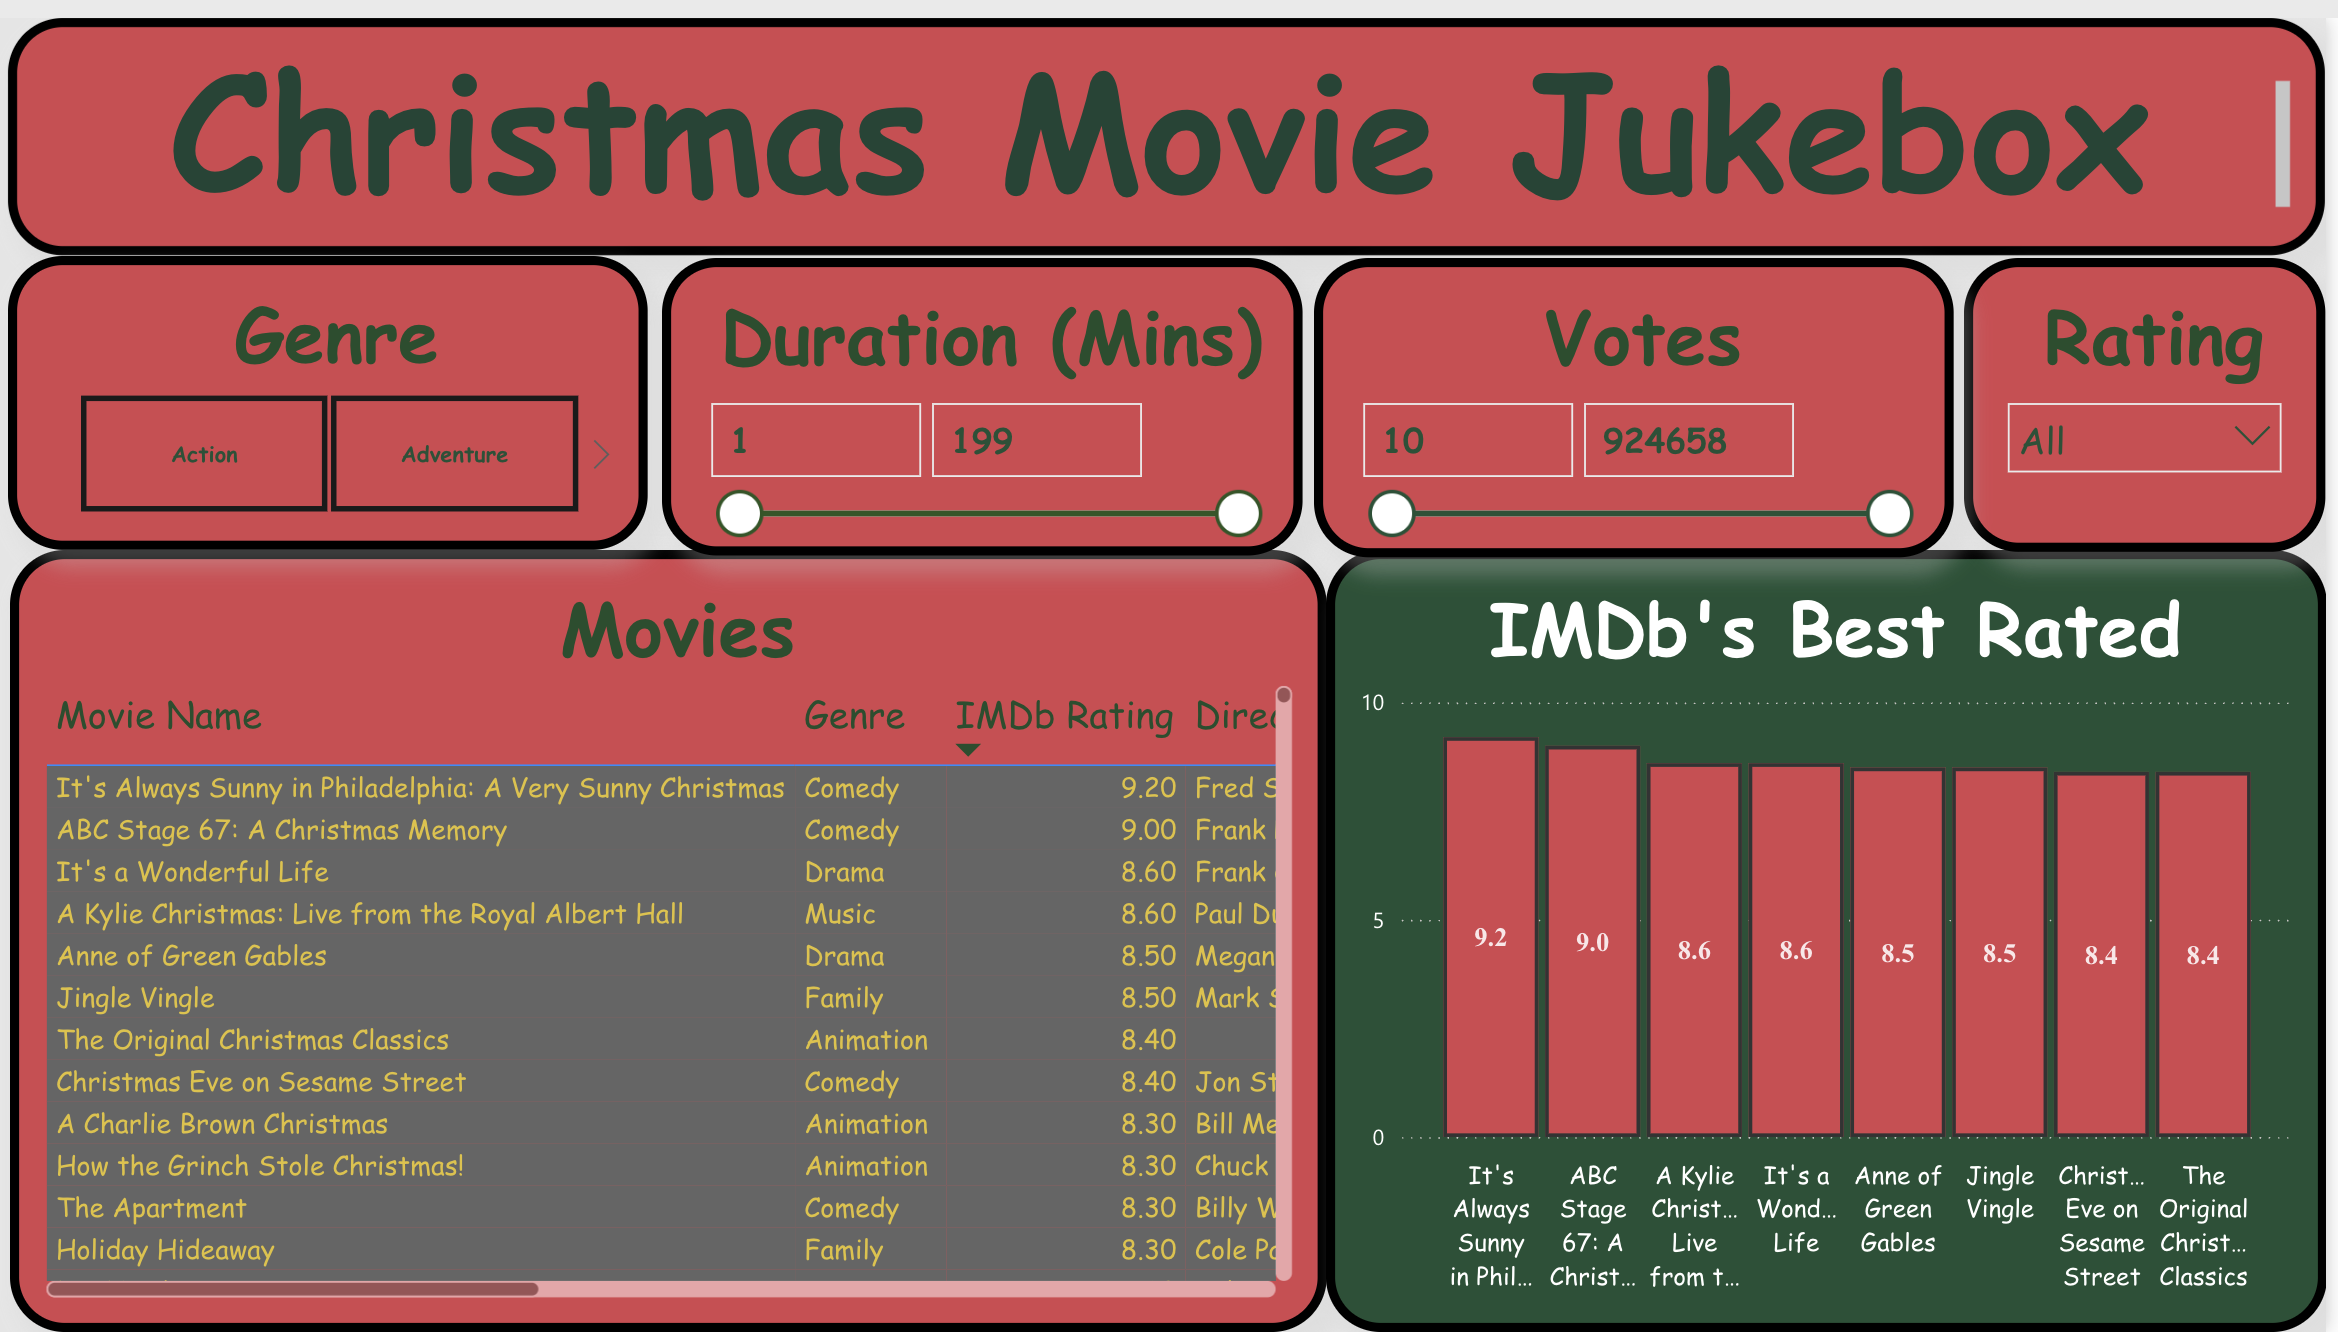

This screenshot's page, from the dashboard's own definition file:
{"tool":"powerbi","page":{"name":"Page 1","canvas":[1280,720],"ordinal":0},"visuals":[{"type":"textbox","box":[10.3,0,1269.7,130.1],"z":0},{"type":"tableEx","title":"Movies","fields":{"Values":["christmas_movies.title","christmas_movies.Genre","christmas_movies.imdb_rating","christmas_movies.director","christmas_movies.release_year","christmas_movies.votes","christmas_movies.stars"]},"box":[10.3,291.2,721.3,428.6],"z":1000},{"type":"clusteredColumnChart","title":"IMDb''s Best Rated","fields":{"Y":["christmas_movies.imdb_rating"],"Category":["christmas_movies.title"]},"box":[731.6,291.2,548.4,428.6],"z":1001},{"type":"slicer","title":"Genre","fields":{"Values":["christmas_movies.Genre"]},"box":[10.3,130.1,350.3,161.1],"z":1002},{"type":"slicer","title":"Duration (Mins)","fields":{"Values":["christmas_movies.runtime"]},"box":[368,128.6,350.3,165.5],"z":1003},{"type":"slicer","title":"Rating","fields":{"Values":["christmas_movies.rating"]},"box":[1081.9,131.5,198.1,161.1],"z":1004},{"type":"slicer","title":"Votes","fields":{"Values":["christmas_movies.votes"]},"box":[725.7,131.5,350.3,164.1],"z":1005}]}

Visuals, with their boxes in screenshot pixels (x1, y1, x2, y2), scaled from the page's 1280x720 canvas onto the 2338x1332 screenshot:
textbox: (x1=19, y1=0, x2=2337, y2=241)
"Movies" tableEx: (x1=19, y1=539, x2=1336, y2=1331)
"IMDb''s Best Rated" clusteredColumnChart: (x1=1336, y1=539, x2=2337, y2=1331)
"Genre" slicer: (x1=19, y1=241, x2=659, y2=539)
"Duration (Mins)" slicer: (x1=672, y1=238, x2=1312, y2=544)
"Rating" slicer: (x1=1976, y1=243, x2=2337, y2=541)
"Votes" slicer: (x1=1326, y1=243, x2=1965, y2=547)
